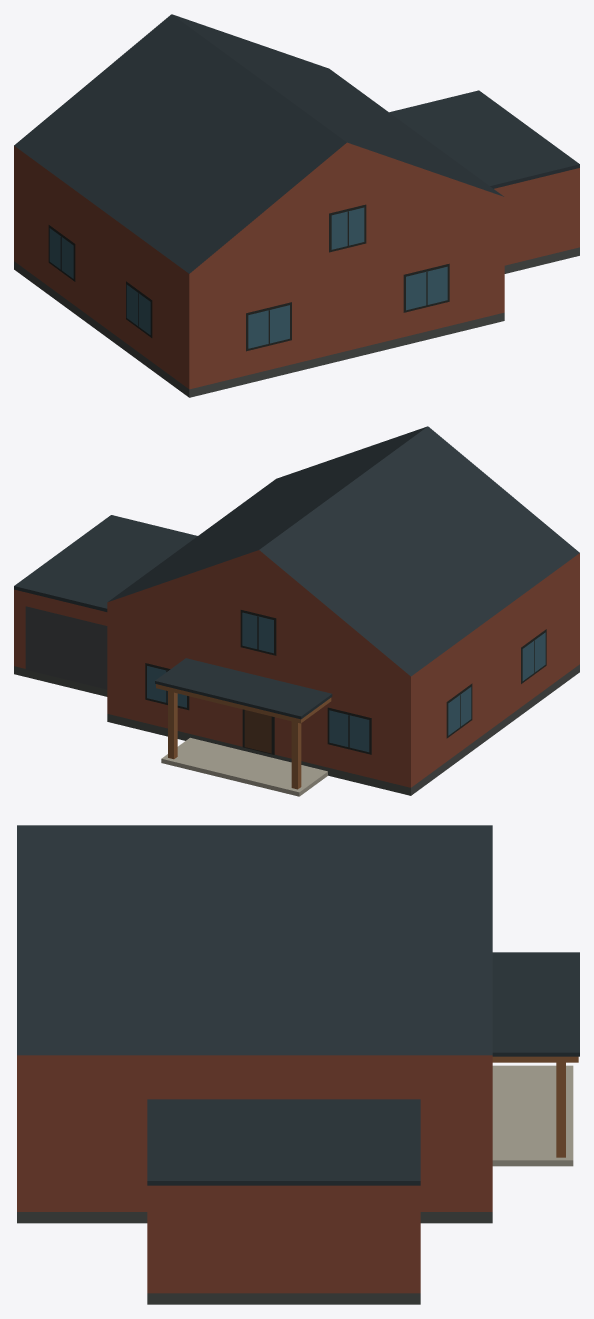
The picture shows the model from 3 angles, top to bottom: view 1: azimuth 30°, elevation 25°; view 2: azimuth 150°, elevation 25°; view 3: azimuth 270°, elevation 25°; orthographic projection. The views are drawn at different scales.
Size of the model in its own units: 15.37 by 7.23 by 12.62.
